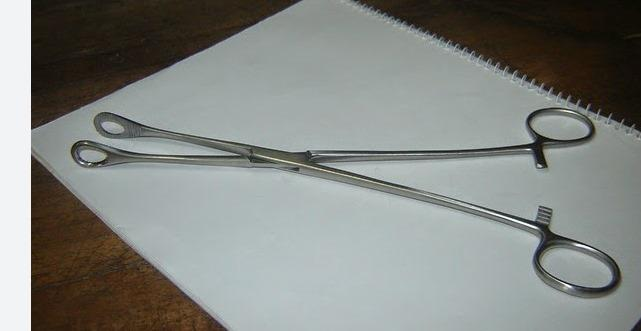Sponge Holding Forceps: (67, 103, 621, 300)
